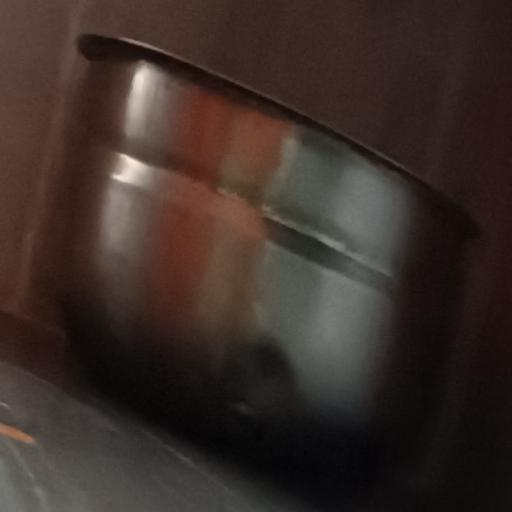vessel: (65, 36, 474, 459)
